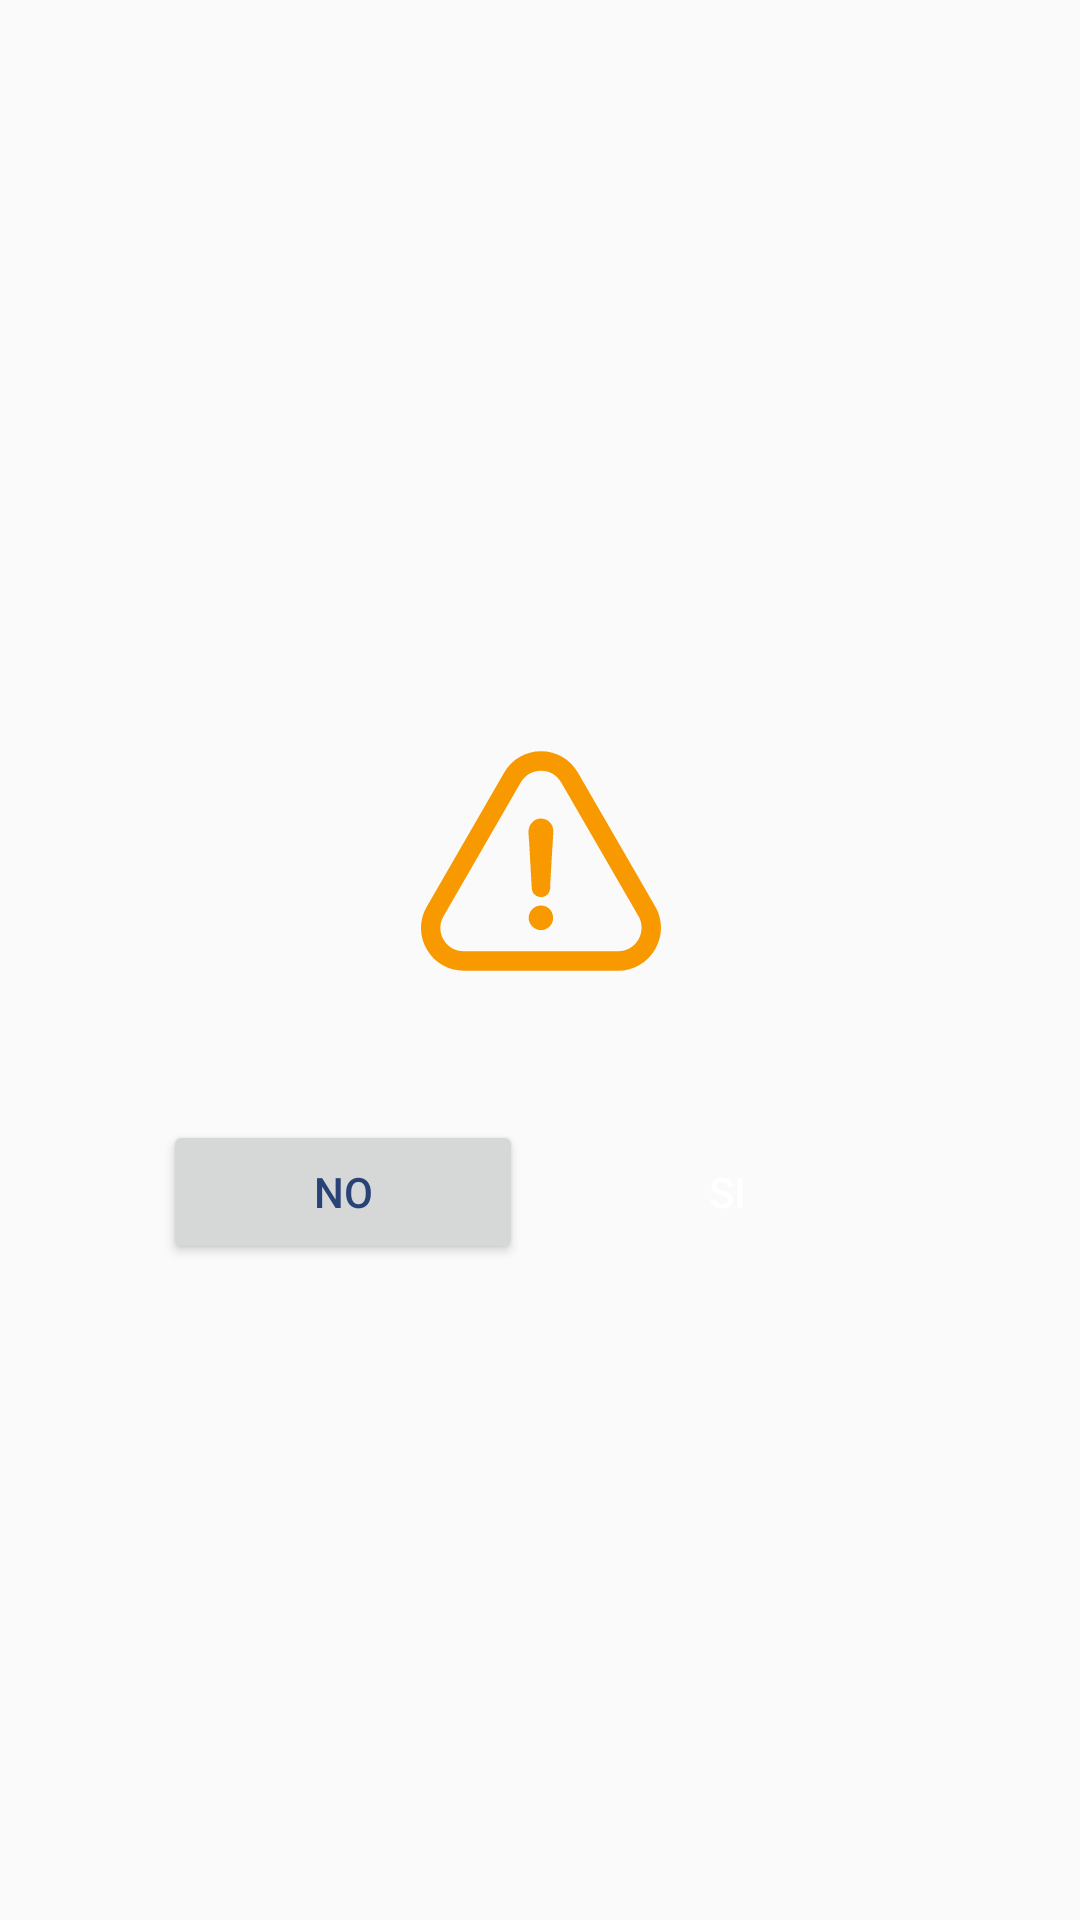

Locate icon controls on the screen. Image size 1080px x 1920px, boxes as (x1, y1, x2, y2).
warning: (421, 751, 661, 971)
